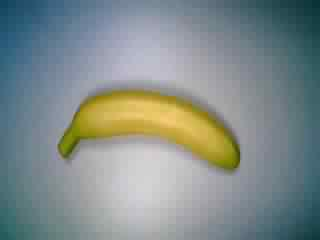banana: (57, 90, 244, 183)
